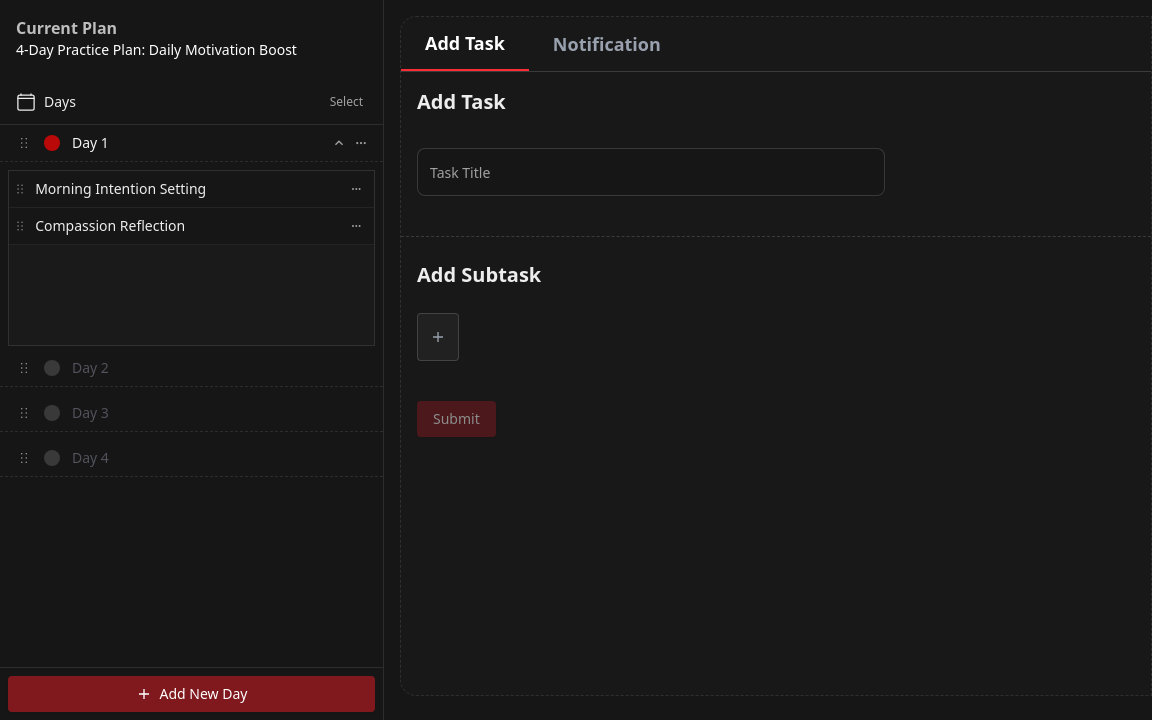
Test: PlanDetailsPanel Component › shows tasks when a day is selected and expanded
This screenshot has width=1152, height=720.
Check: the text "4-Day Practice Plan: Daily Motivation Boost" is shown, box [16,40,297,59]
Check: the text "Morning Intention Setting" is shown, box [35,179,206,198]
Click the text "Day 2" at point(90, 368), box [72,358,109,378]
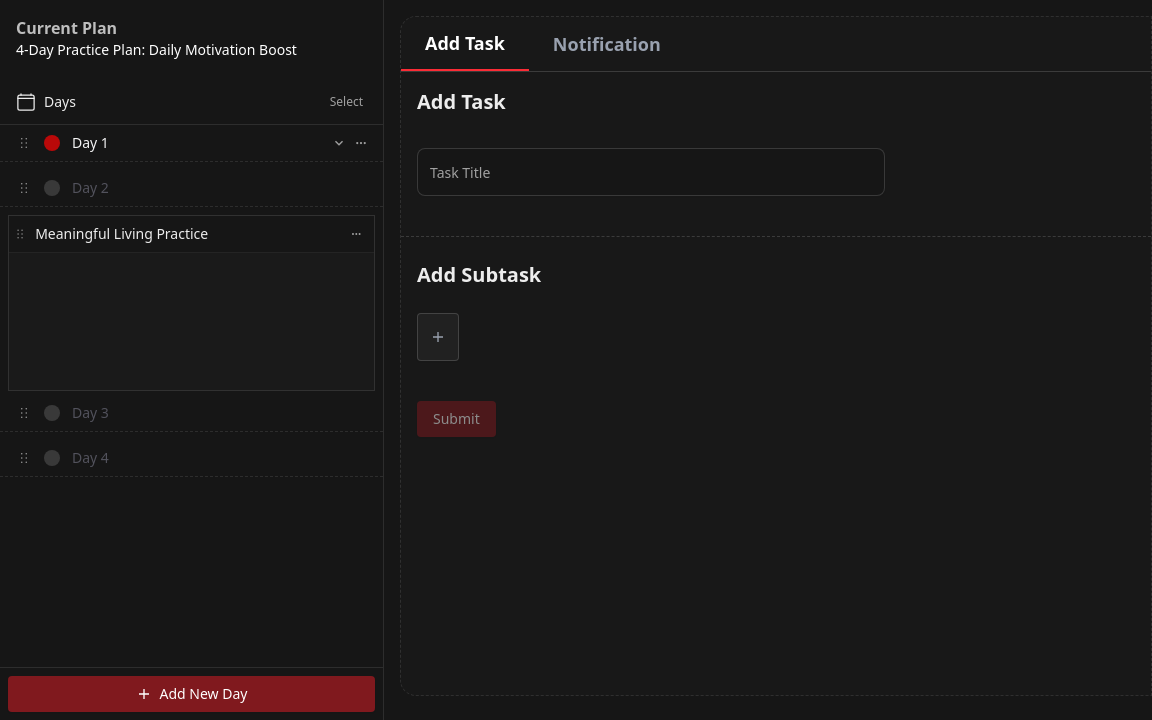
Check: the text "Meaningful Living Practice" is shown, box [35,224,208,243]
Check: the button "Morning Intention Setting" is gone
